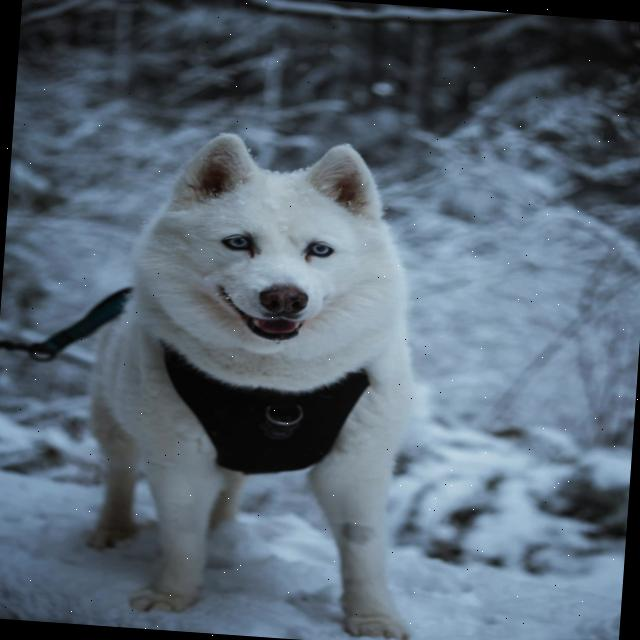siberian_husky_dog: (116, 119, 420, 380)
